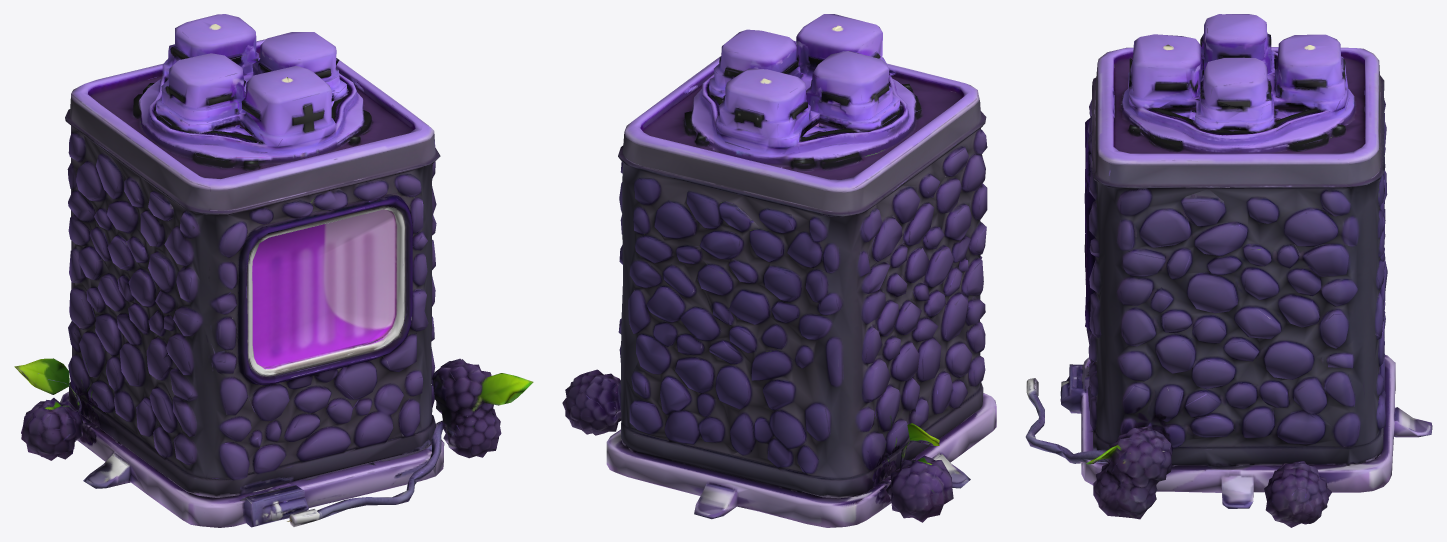
File: Meshy_AI_Blackberry_Power_Box_0109100014_texture.fbx
3 renders of one model, left to right at view 1: azimuth 30°, elevation 25°; view 2: azimuth 150°, elevation 25°; view 3: azimuth 270°, elevation 25°, orthographic. The views are drawn at different scales.
Parts seen in each view (by area): view 1: Mesh1.0; view 2: Mesh1.0; view 3: Mesh1.0.
Boxes of the visible parts, x1=… form: Mesh1.0: x1=14, y1=14, x2=533, y2=527; Mesh1.0: x1=562, y1=14, x2=996, y2=527; Mesh1.0: x1=1025, y1=14, x2=1432, y2=527.
Bounding box in the file's own units: 191 × 185 × 174.
1 material, 1 textured.
